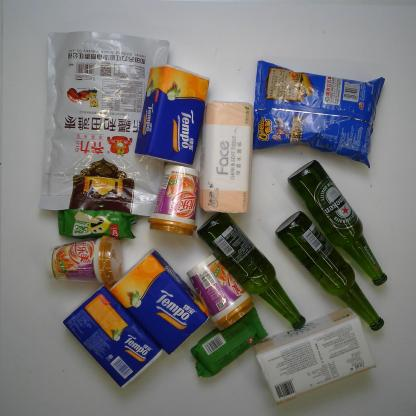Alcohol: (274, 209, 386, 332), (195, 210, 306, 330), (286, 158, 389, 287)
Dessert: (188, 306, 270, 379), (57, 206, 140, 240)
Dried Food: (39, 29, 172, 219)
Instant Drink: (184, 253, 255, 332), (44, 234, 126, 287), (146, 160, 201, 238)
Puffed Food: (249, 59, 386, 171)
Tissue: (251, 306, 377, 407), (109, 247, 212, 357), (62, 283, 165, 390), (133, 61, 210, 167), (196, 97, 256, 217)
